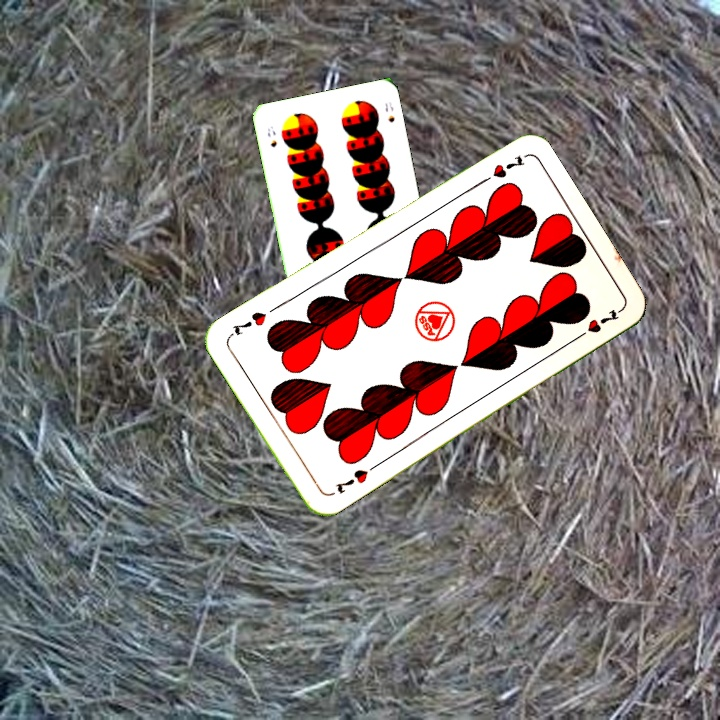H7: (474, 151, 527, 188), (331, 465, 371, 496)
S8: (263, 122, 280, 150)
